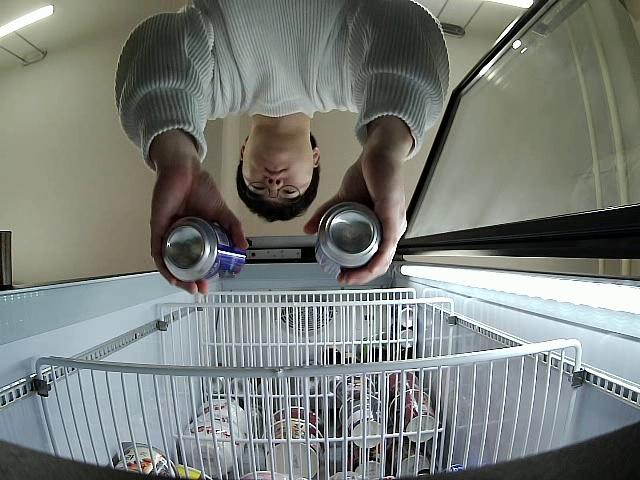00_hand: (301, 156, 408, 283), (150, 169, 251, 295)
14_welchsGrape: (161, 217, 246, 281), (315, 204, 381, 280)
